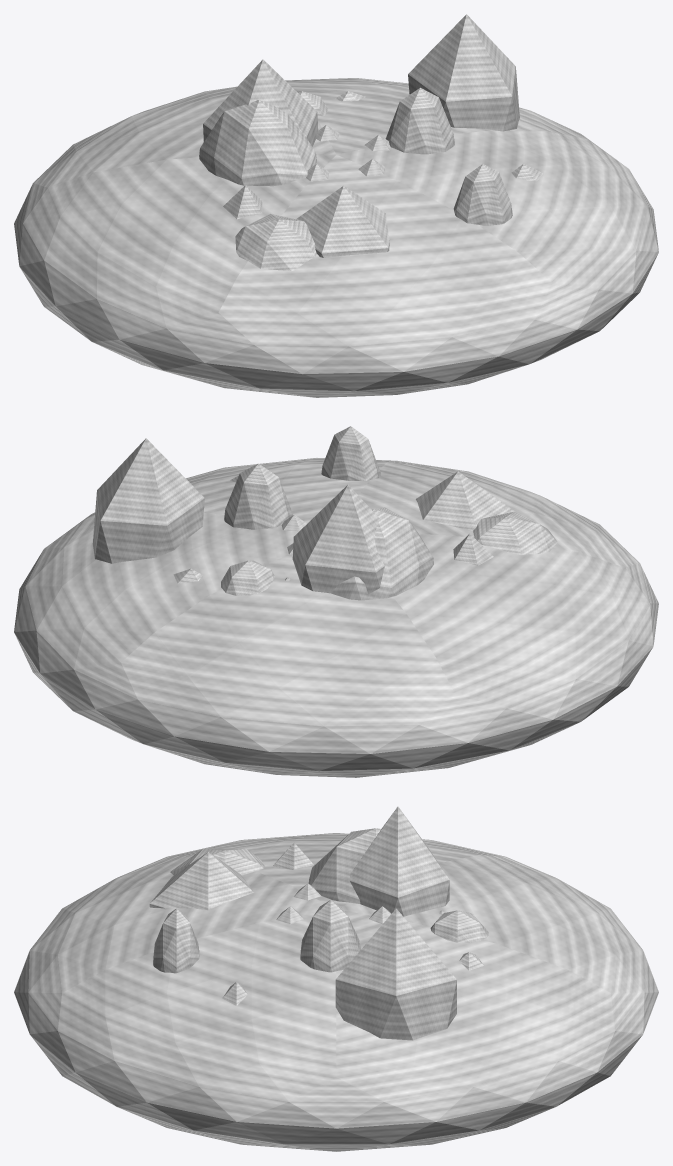
File: limestone_node_variant_d.glb
3 views of the same model, one above another, from view 1: azimuth 30°, elevation 25°; view 2: azimuth 150°, elevation 25°; view 3: azimuth 270°, elevation 25° (orthographic).
Visible parts, largest first — view 1: Resource node bedrock.003, Exposed ore formation.035, Exposed ore formation.040, Exposed ore formation.044, Exposed ore formation.043, Exposed ore formation.039, Exposed ore formation.034, Exposed ore formation.046, Exposed ore formation.042; view 2: Resource node bedrock.003, Exposed ore formation.035, Exposed ore formation.039, Exposed ore formation.040, Exposed ore formation.034, Exposed ore formation.044, Exposed ore formation.043, Exposed ore formation.046, Exposed ore formation.037, Exposed ore formation.042; view 3: Resource node bedrock.003, Exposed ore formation.035, Exposed ore formation.039, Exposed ore formation.044, Exposed ore formation.034, Exposed ore formation.040, Exposed ore formation.046, Exposed ore formation.037, Exposed ore formation.043, Exposed ore formation.042.
Part boxes in pixels (x1,y1,x2,y2): Resource node bedrock.003: (14,78,658,397); Exposed ore formation.035: (408,14,519,131); Exposed ore formation.040: (199,100,316,186); Exposed ore formation.044: (296,185,389,257); Exposed ore formation.043: (235,213,316,270); Exposed ore formation.039: (203,59,318,146); Exposed ore formation.034: (385,87,454,154); Exposed ore formation.046: (453,164,512,225); Exposed ore formation.042: (223,185,262,219); Resource node bedrock.003: (14,458,658,777); Exposed ore formation.035: (92,438,204,563); Exposed ore formation.039: (292,484,384,594); Exposed ore formation.040: (331,507,433,600); Exposed ore formation.034: (224,463,292,529); Exposed ore formation.044: (416,471,514,530); Exposed ore formation.043: (473,511,557,554); Exposed ore formation.046: (321,426,380,480); Exposed ore formation.037: (221,560,274,595); Exposed ore formation.042: (453,533,493,565); Resource node bedrock.003: (14,833,658,1151); Exposed ore formation.035: (335,908,456,1040); Exposed ore formation.039: (349,806,449,916); Exposed ore formation.044: (149,852,253,910); Exposed ore formation.034: (300,900,360,972); Exposed ore formation.040: (308,828,381,904); Exposed ore formation.046: (153,908,199,973); Exposed ore formation.037: (430,910,488,942); Exposed ore formation.043: (170,848,264,875); Exposed ore formation.042: (272,842,314,869).
Size of what is drawn, in the model's own units: 6 by 2.55 by 6.
Materials: 2 (2 with a texture image).
